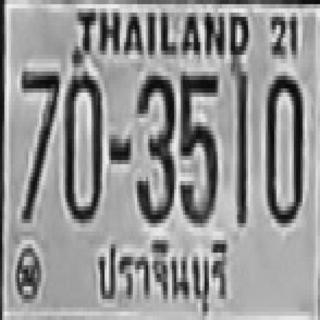N00: (264, 72, 302, 223), (63, 67, 100, 219)
N01: (234, 72, 247, 223)
N03: (135, 74, 174, 221)
N05: (178, 72, 216, 223)
N07: (20, 67, 59, 219)
P49: (89, 229, 231, 320)
